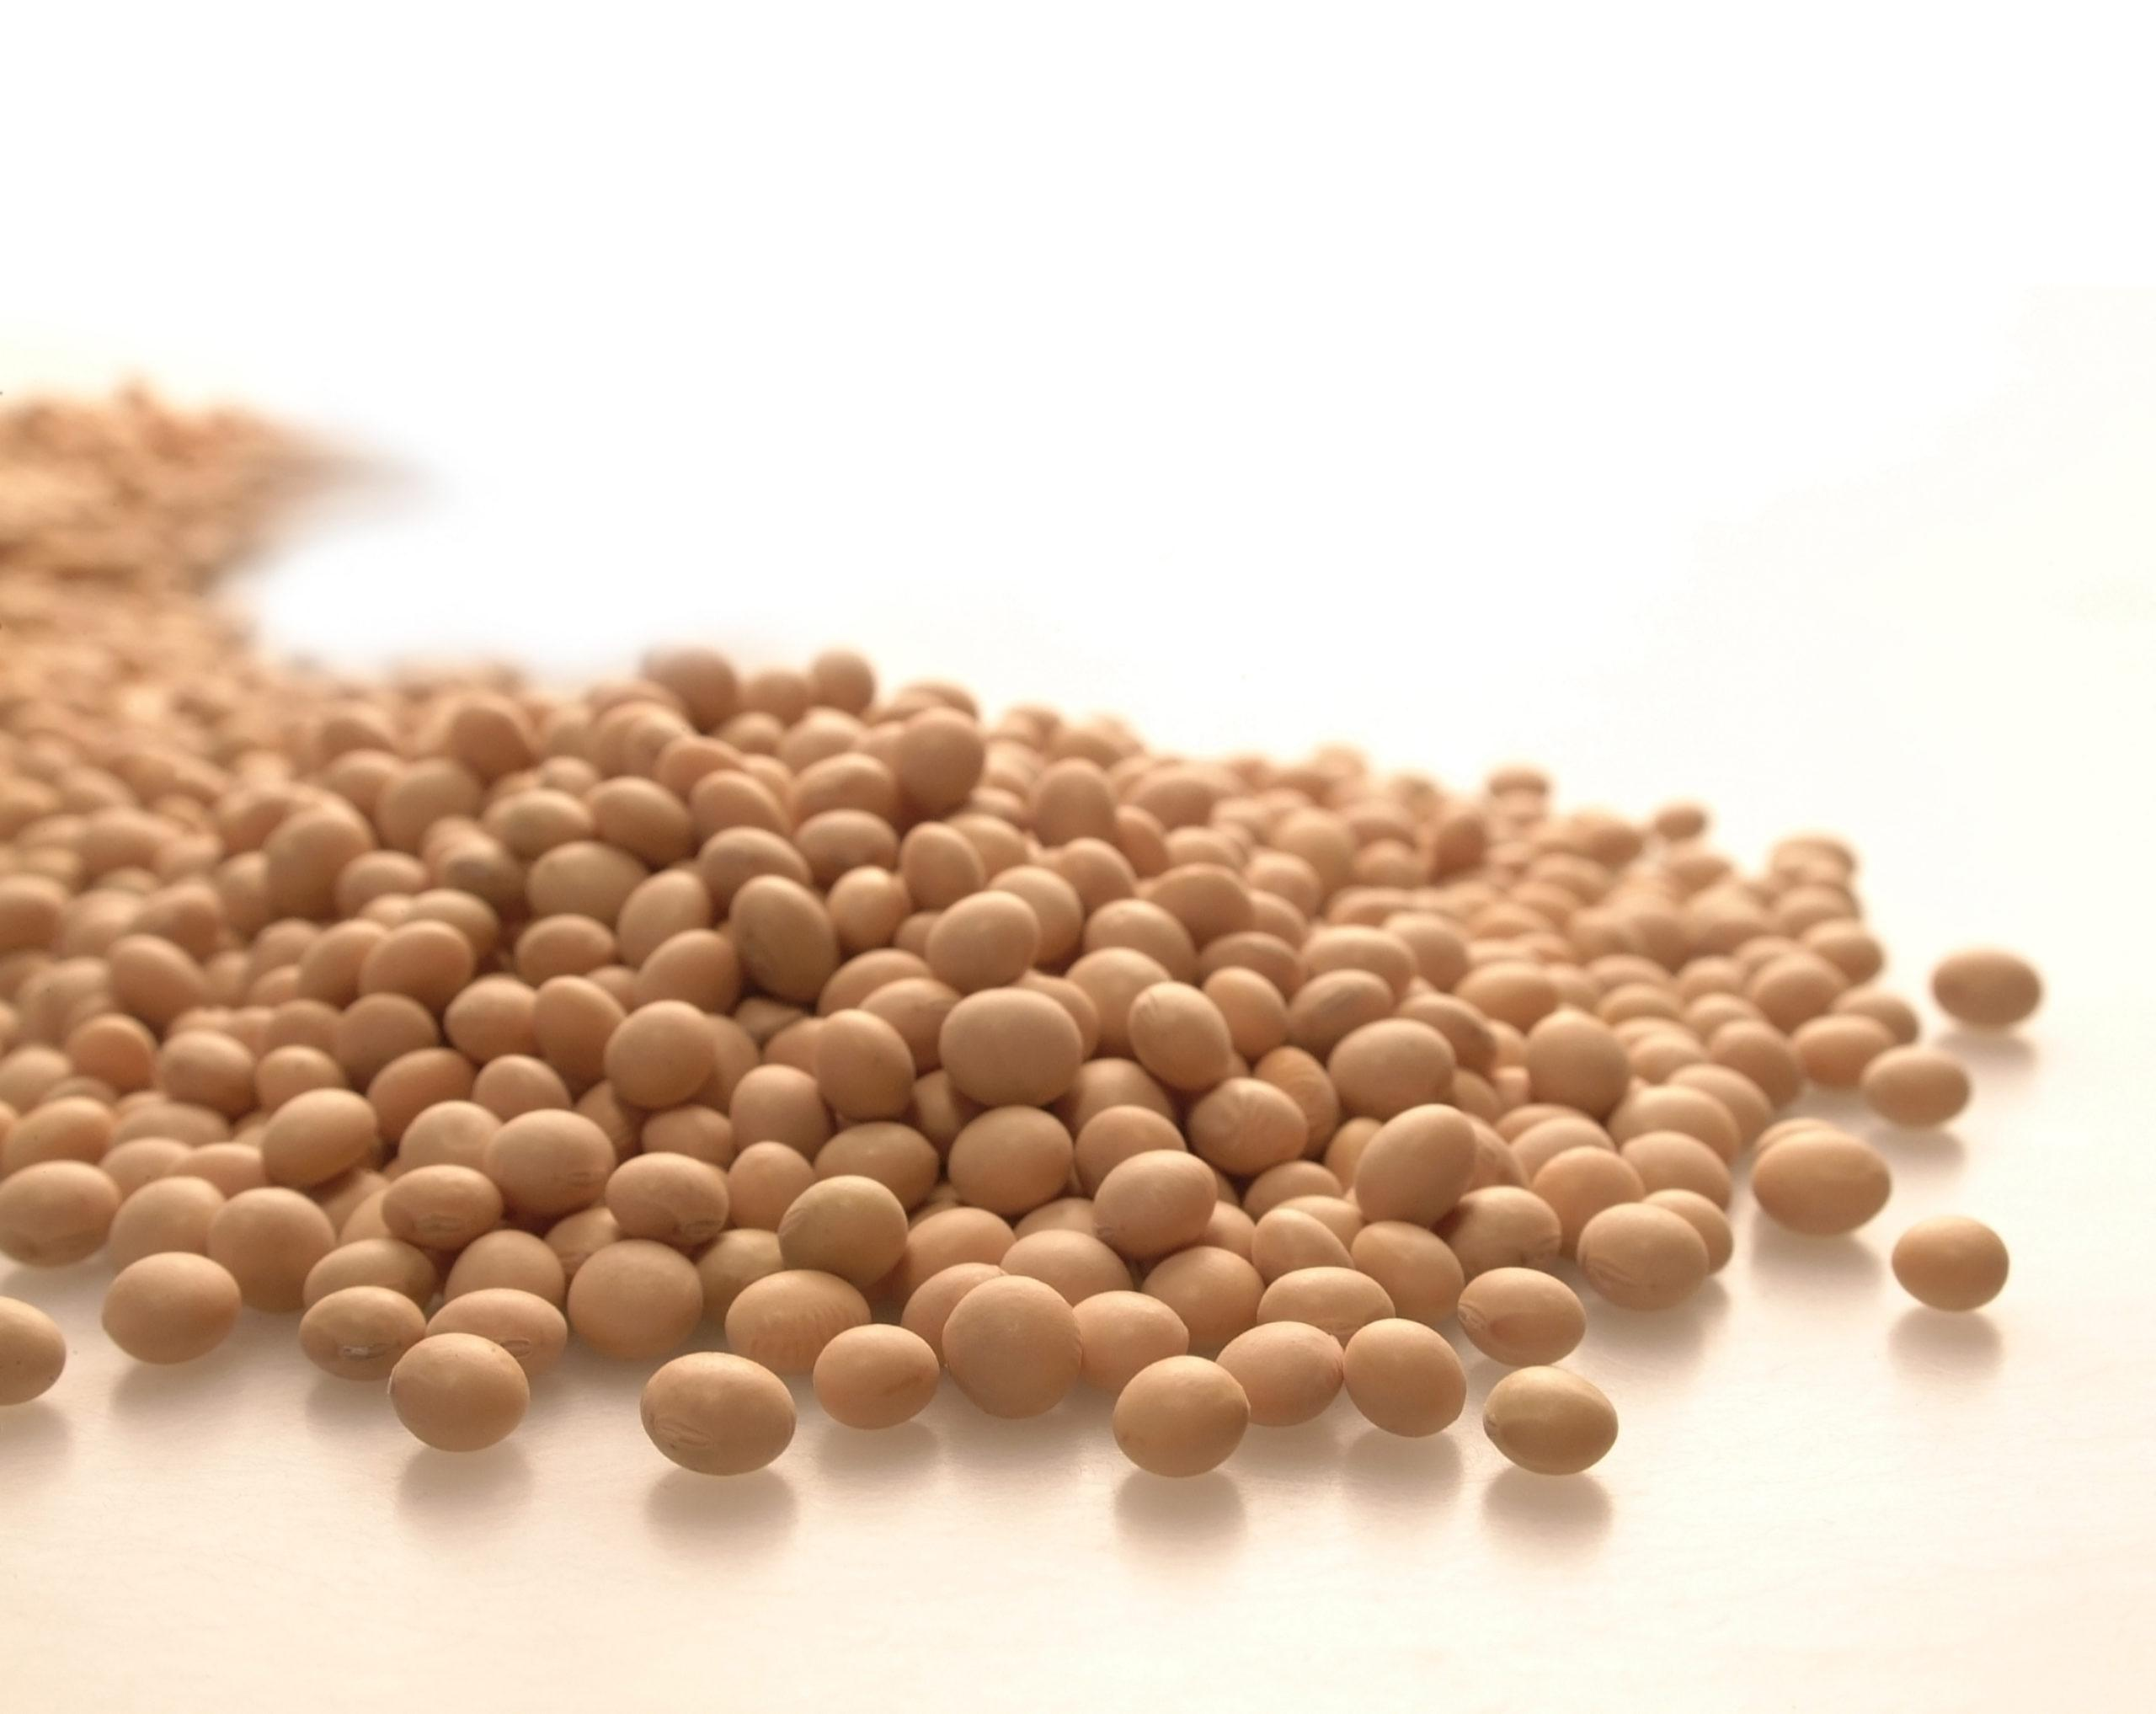soy beans: (0, 375, 2046, 1485)
